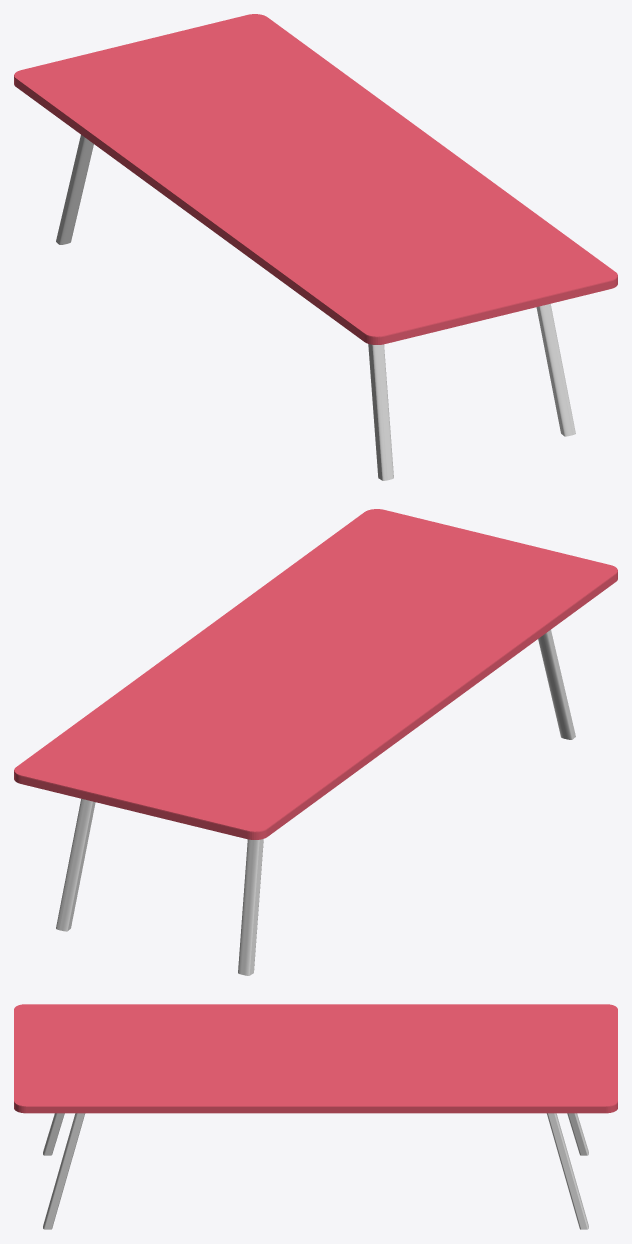
Rendered from ConferenceTable.fbx.
The picture shows the model from 3 angles, top to bottom: view 1: azimuth 30°, elevation 25°; view 2: azimuth 150°, elevation 25°; view 3: azimuth 270°, elevation 25°; orthographic projection. The views are drawn at different scales.
Parts seen in each view (by area): view 1: obj_0, Leg.002, Leg.001, Leg.003; view 2: obj_0, Leg.003, Leg, Leg.002; view 3: obj_0, Leg, Leg.001, Leg.002, Leg.003.
Boxes of the visible parts, left/top/right/bottom form: obj_0: left=14, top=14, right=617, bottom=344; Leg.002: left=368, top=344, right=393, bottom=480; Leg.001: left=536, top=304, right=575, bottom=436; Leg.003: left=56, top=135, right=93, bottom=244; obj_0: left=14, top=509, right=617, bottom=839; Leg.003: left=238, top=839, right=263, bottom=975; Leg: left=56, top=799, right=95, bottom=931; Leg.002: left=538, top=630, right=575, bottom=739; obj_0: left=14, top=1004, right=617, bottom=1113; Leg: left=546, top=1113, right=588, bottom=1229; Leg.001: left=43, top=1113, right=85, bottom=1229; Leg.002: left=43, top=1113, right=64, bottom=1155; Leg.003: left=567, top=1113, right=588, bottom=1155.
Size of the model in its own units: 3000 by 1853 by 7500.
